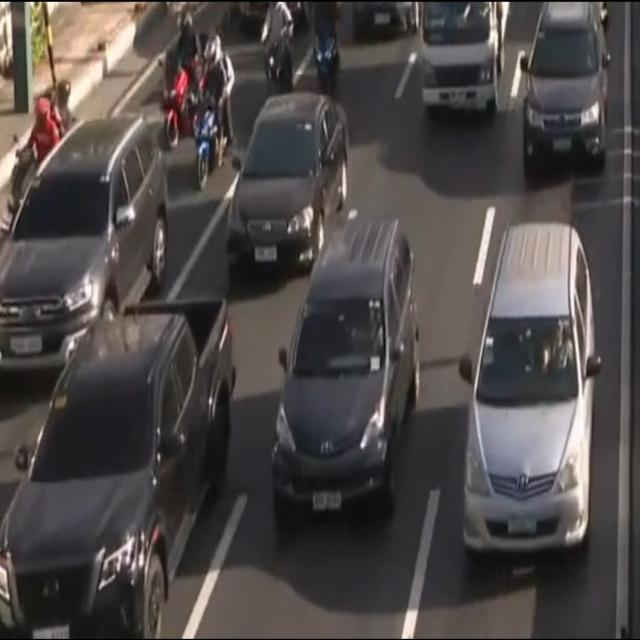Motorcycle: (0, 76, 80, 234), (190, 33, 235, 184), (160, 14, 201, 143), (260, 1, 296, 99), (306, 0, 342, 98)
SUV: (0, 294, 235, 639), (461, 222, 599, 554), (272, 214, 419, 513), (0, 114, 166, 372), (518, 0, 611, 174)
Sedan: (226, 96, 351, 268)
Truck: (417, 1, 506, 117)
